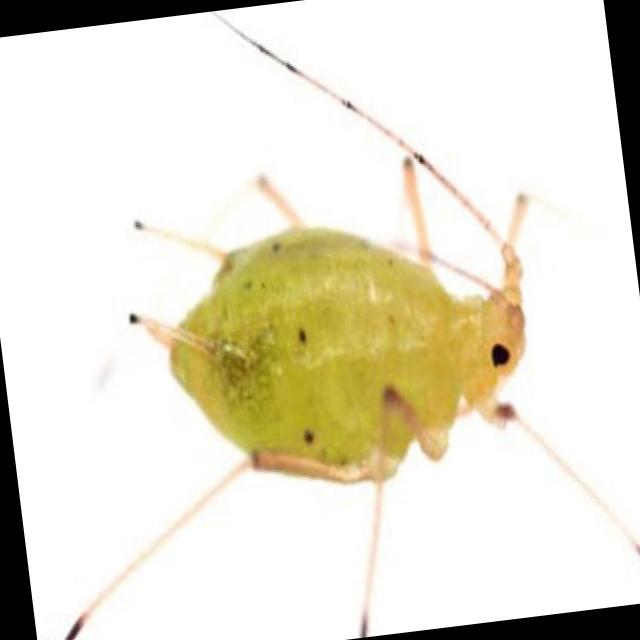aphid: (17, 34, 640, 640)
